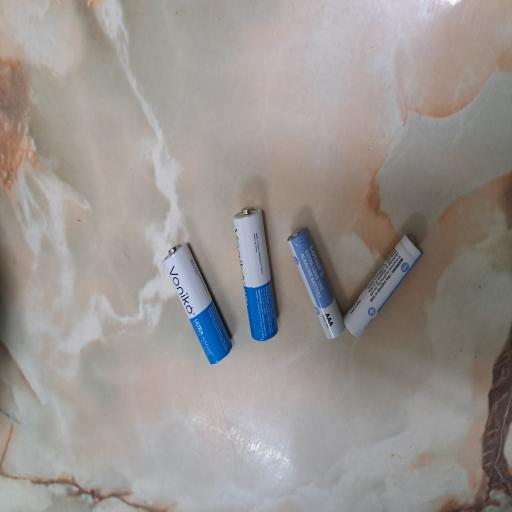battery: (342, 234, 422, 338), (165, 242, 232, 366), (288, 228, 345, 344), (234, 206, 281, 342)
